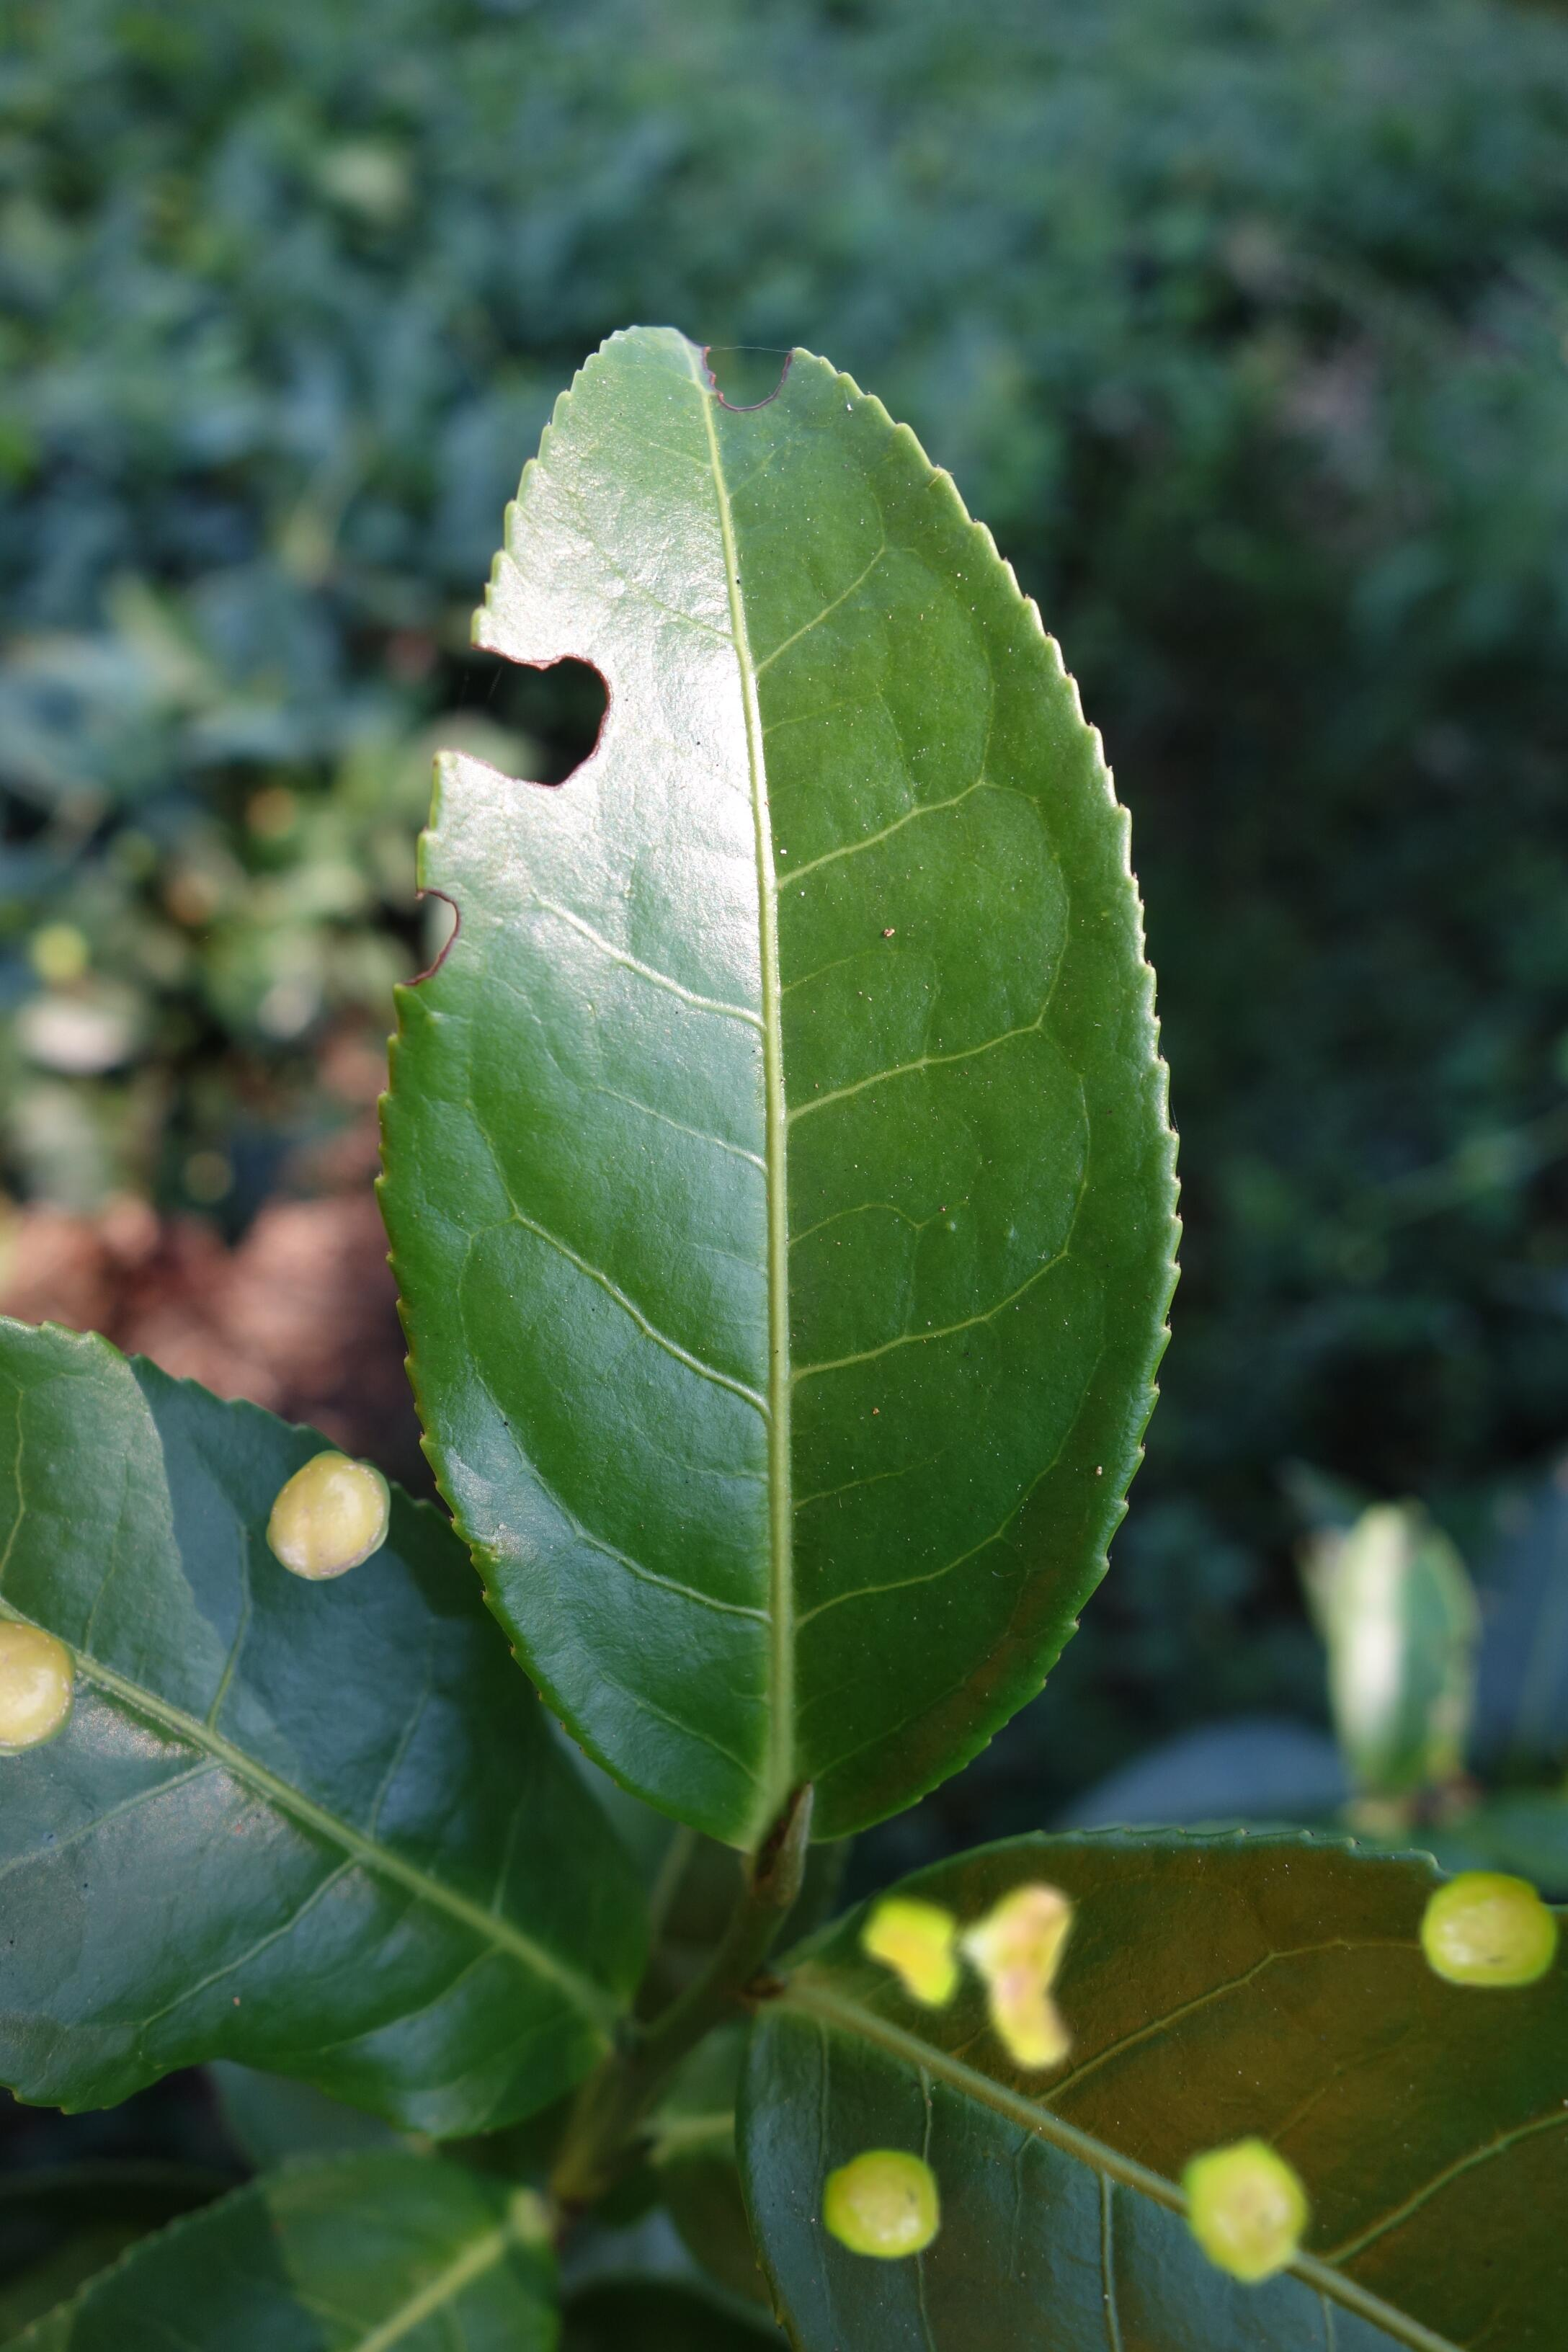chabing_high: (3, 1314, 672, 2130), (731, 1820, 1564, 2347)
chihuo_high: (380, 318, 1186, 1853)
